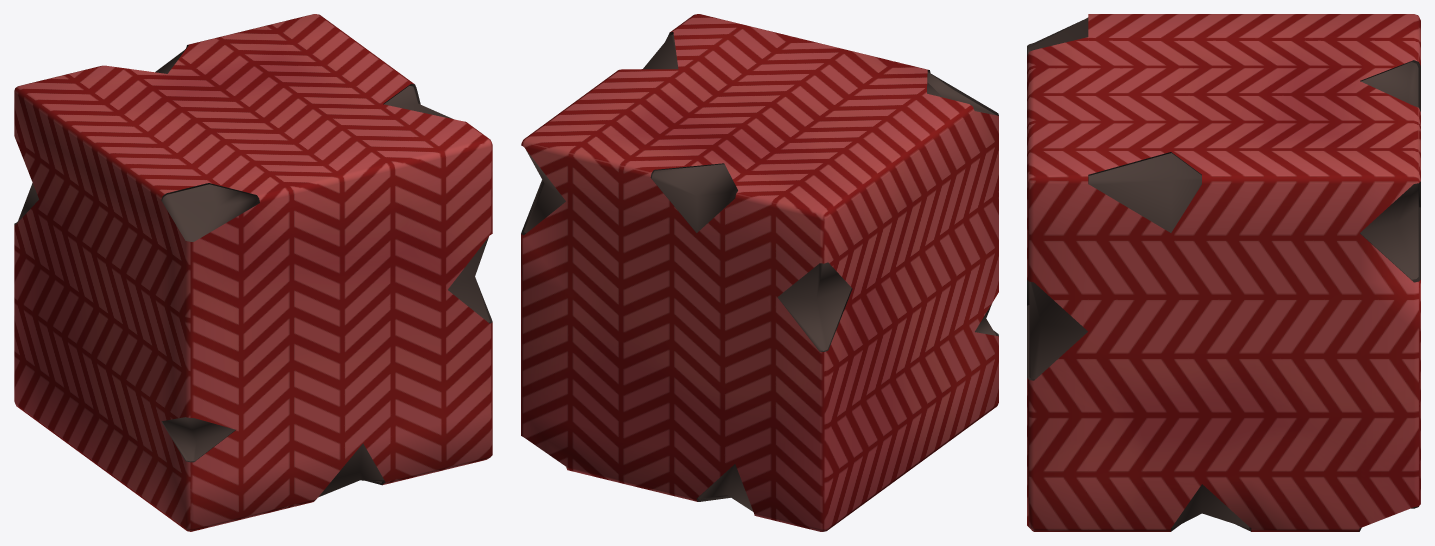
The model's file is Indvidual_Cube_Cryo.fbx.
3 views of the same model, side by side, from view 1: azimuth 30°, elevation 25°; view 2: azimuth 150°, elevation 25°; view 3: azimuth 270°, elevation 25° (orthographic). The views are drawn at different scales.
Visible parts, largest first — view 1: Cube_Final_Cryo.009; view 2: Cube_Final_Cryo.009; view 3: Cube_Final_Cryo.009.
Boxes of the visible parts, x1,y1,x2,y2 form: Cube_Final_Cryo.009: (14,14,492,531); Cube_Final_Cryo.009: (521,14,998,531); Cube_Final_Cryo.009: (1027,14,1420,531).
Bounding box in the file's own units: 300 × 300 × 300.
